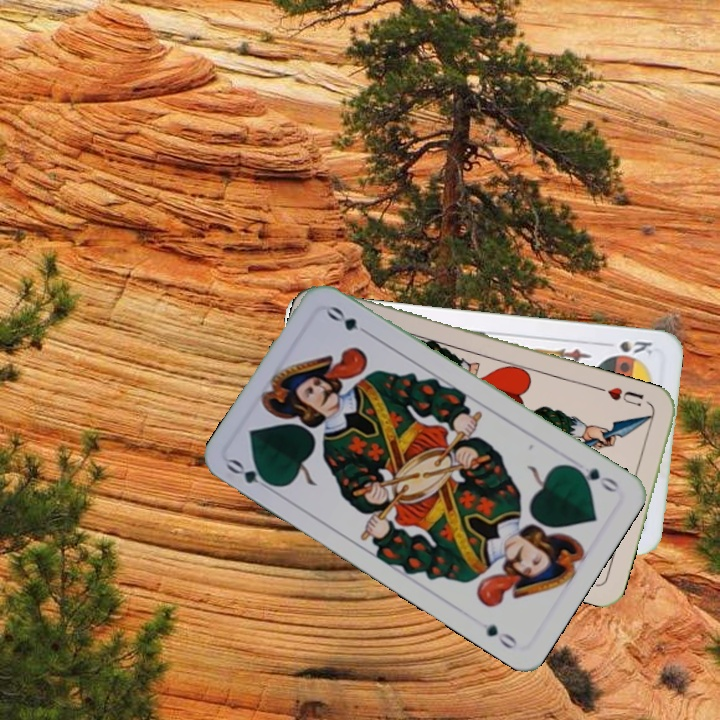GO: (222, 454, 280, 495), (567, 461, 623, 495)
HU: (603, 383, 646, 410)
SK: (615, 336, 655, 360)
